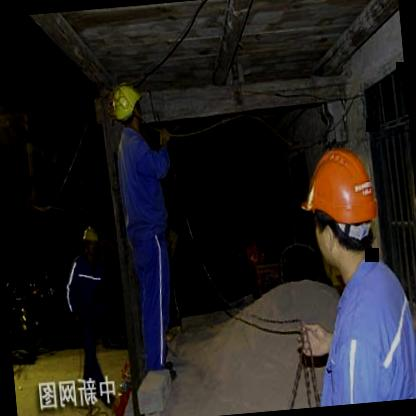helmet: (294, 136, 388, 284), (110, 80, 148, 132), (80, 222, 102, 260)
